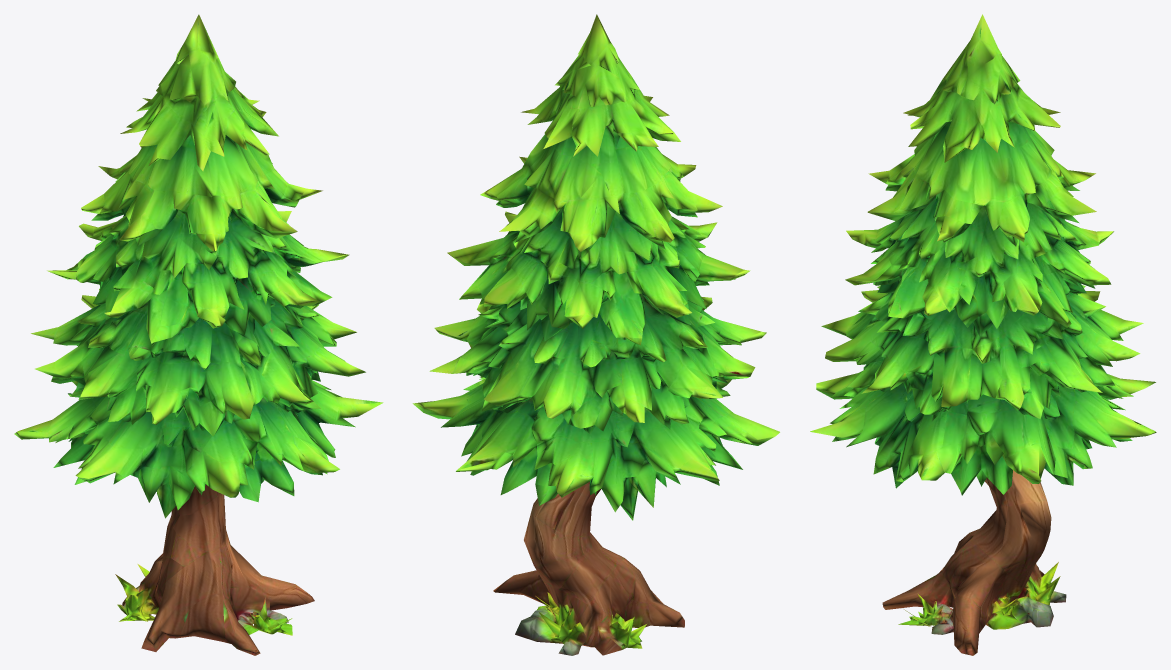
Rendered from pine.glb.
3 views of the same model, side by side, from view 1: azimuth 30°, elevation 25°; view 2: azimuth 150°, elevation 25°; view 3: azimuth 270°, elevation 25° (orthographic). The views are drawn at different scales.
Size of the model in its own units: 1.01 by 1.89 by 1.01.
Materials: 1 (1 with a texture image).
